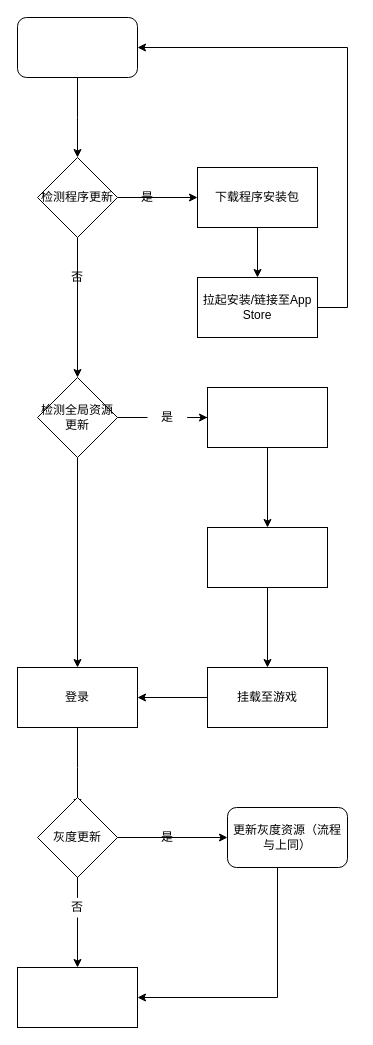
Image size: 373x1045. Some labels were removed from this diagram. Each missing label, with the centre of its shape:
"下载资源" goes at [267,557].
"启动游戏" goes at [77,47].
"根据本地版本号获取需要更新的资源列表" goes at [267,417].
"进入游戏" goes at [77,997].
